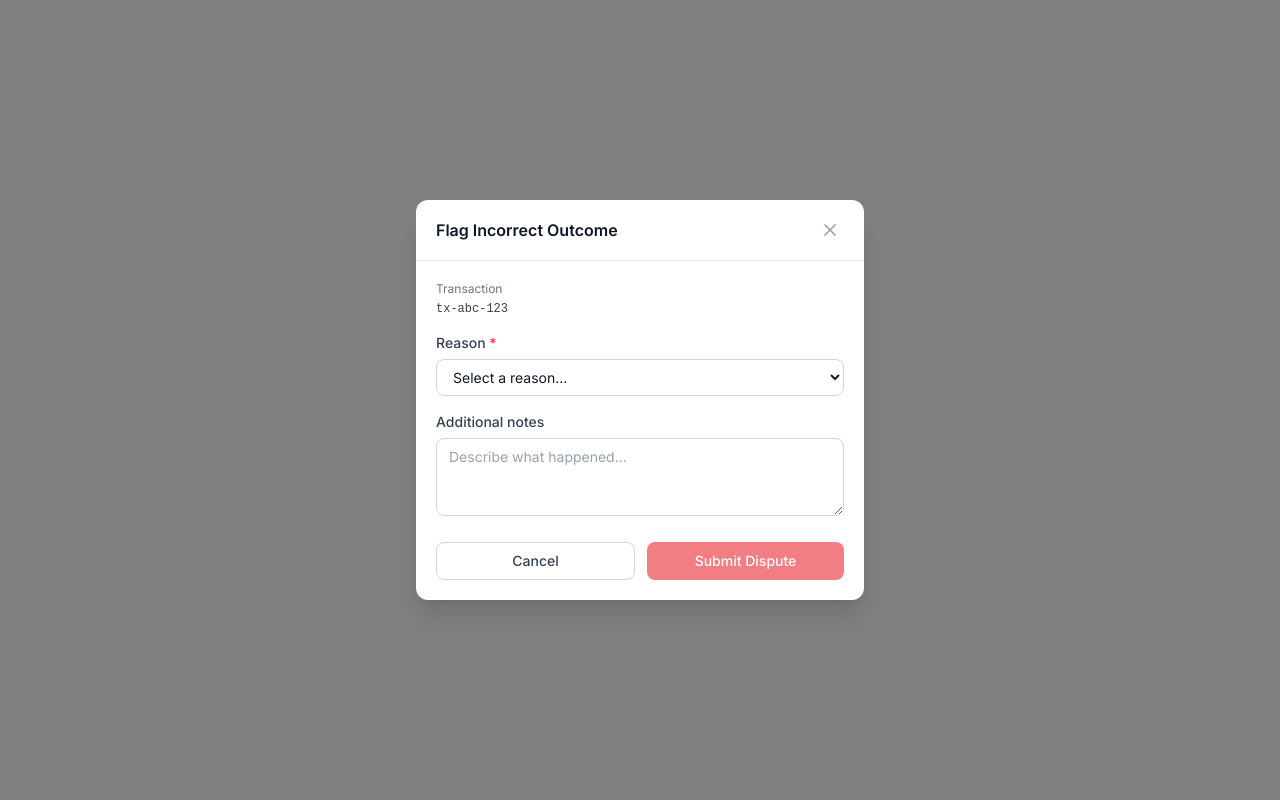
Scenario: DisputeModal › shows acknowledgement after successful submission
The width and height of the screenshot is (1280, 800).
Select "Funds not received" in the dropdown at (640, 378), box [436,359,844,396]
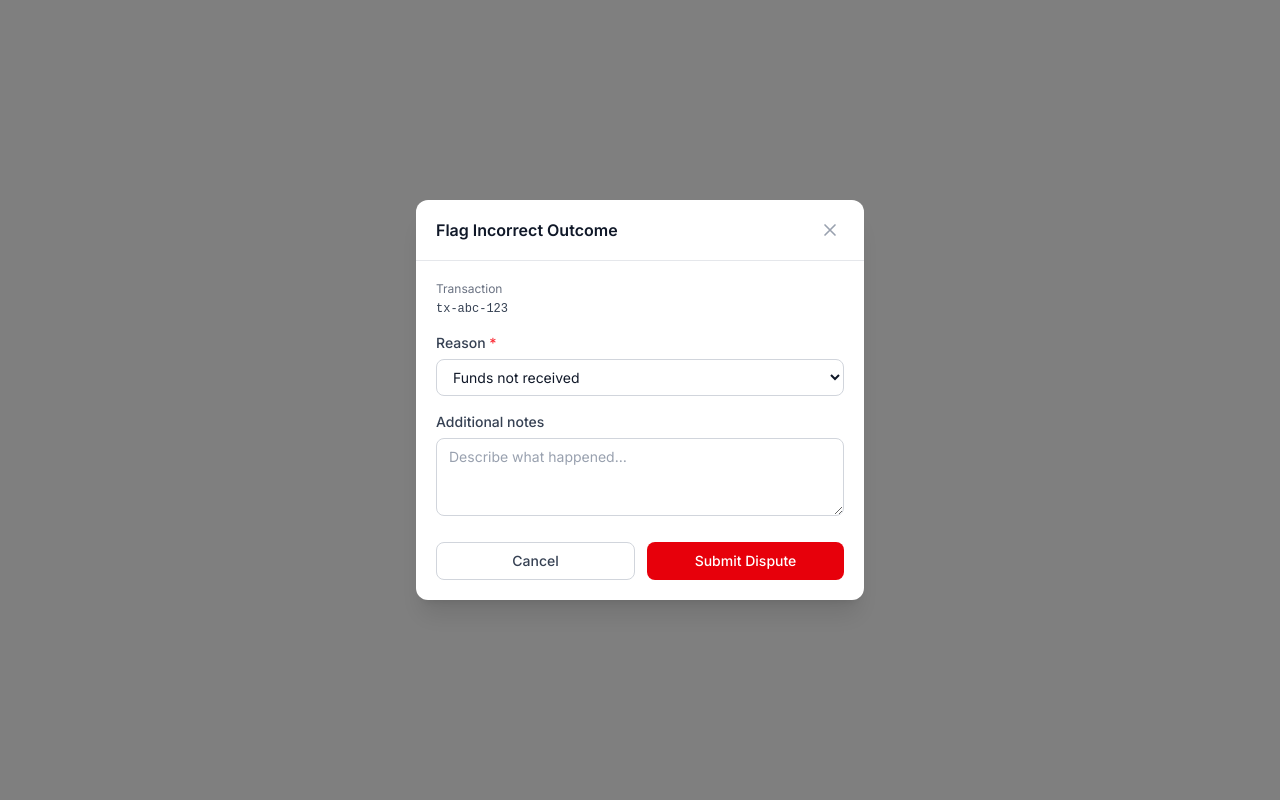
Click the button "Submit Dispute" at (746, 561), box [647,542,844,580]
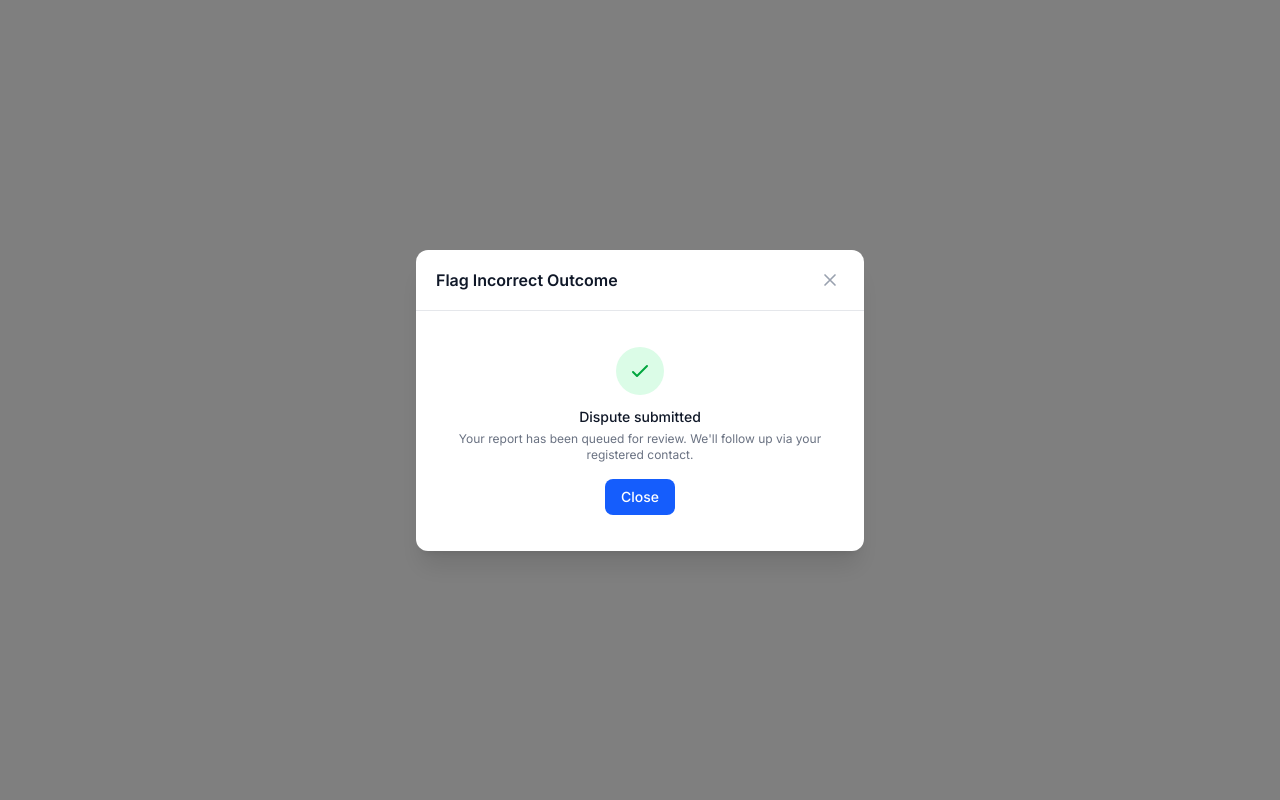
Result: the text "Dispute submitted" is shown at [579,408,701,424]
